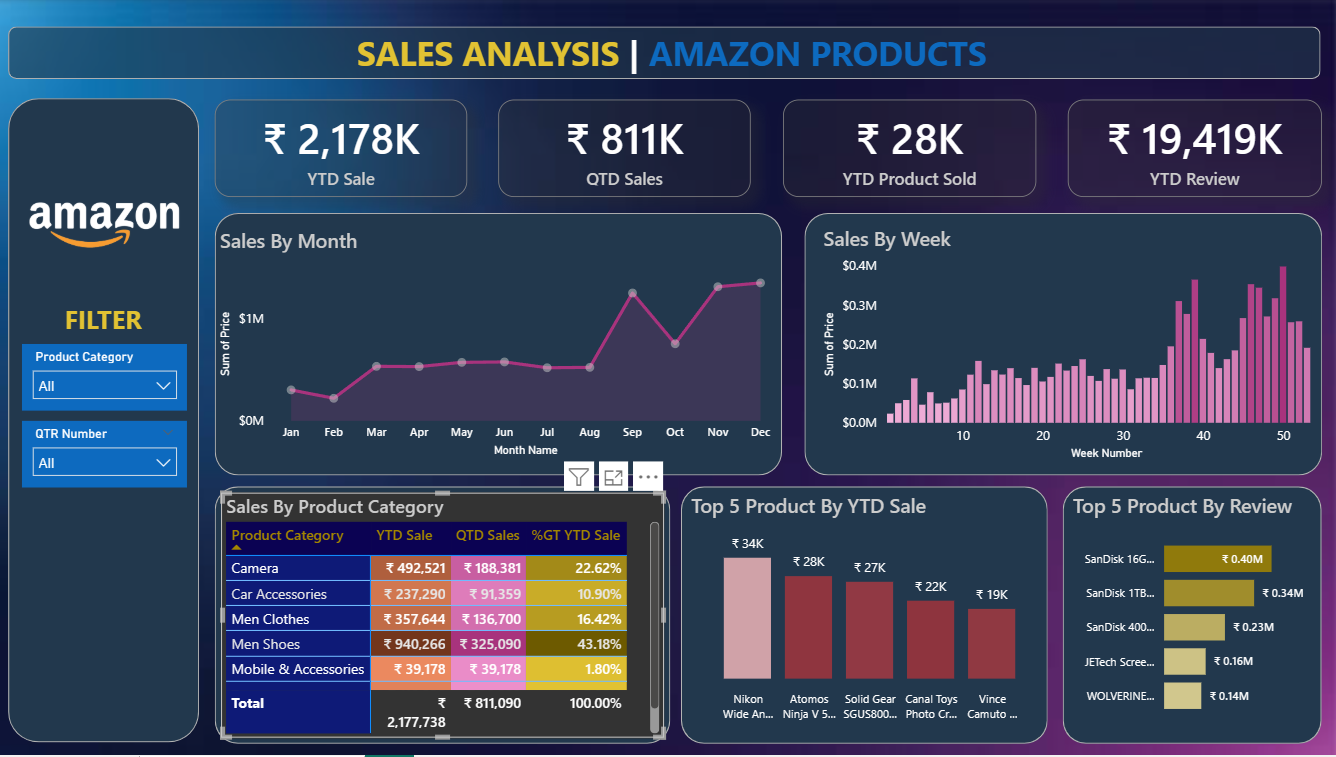

The dashboard page shown, as its layout file describes it:
{"tool":"powerbi","page":{"name":"Amazon Sales Dashboard","canvas":[1280,720],"ordinal":0},"visuals":[{"type":"shape","box":[211.1,202.8,540.4,250],"z":0},{"type":"shape","box":[14.4,93.8,181.9,613.5],"z":1000},{"type":"shape","box":[14.9,25,1250.2,50],"z":2000},{"type":"textbox","box":[332,22.2,627.9,54.2],"z":3000},{"type":"card","fields":{"Values":["Amazon_Data.YTD Sale"]},"box":[211.1,94.5,240.3,93.1],"z":4000},{"type":"card","fields":{"Values":["Amazon_Data.QTD Sales"]},"box":[481.8,94.5,240.3,93.1],"z":5000},{"type":"card","fields":{"Values":["Amazon_Data.YTD Product Sold"]},"box":[752.5,94.5,241,93.1],"z":6000},{"type":"card","fields":{"Values":["Amazon_Data.YTD Review"]},"box":[1023.8,94.5,241.7,93.1],"z":7000},{"type":"areaChart","title":"Sales By Month","fields":{"Y":["Amazon_Data.Price(Dollar)"],"Category":["Date Table.Month Name"]},"box":[210.8,216.5,541.4,223.8],"z":8000},{"type":"shape","box":[772.4,202.8,493.1,250],"z":9000},{"type":"columnChart","title":"Sales By Week","fields":{"Y":["Amazon_Data.Price(Dollar)"],"Category":["Date Table.Week Number"]},"box":[786.2,215.3,493.1,227.8],"z":10000},{"type":"shape","box":[211.3,463.5,433.9,245.1],"z":11000},{"type":"pivotTable","title":"Sales By Product Category","fields":{"Rows":["Amazon_Data.Product Category"],"Values":["Amazon_Data.YTD Sale1","Amazon_Data.QTD Sales","Amazon_Data.YTD Sale"]},"box":[216.9,473.3,422.6,233.8],"z":12000},{"type":"shape","box":[655,463.5,349.4,245.1],"z":13000},{"type":"columnChart","title":"Top 5 Product By YTD Sale ","fields":{"Category":["Amazon_Data.Product Description"],"Y":["Amazon_Data.YTD Sale"]},"box":[660.7,469.1,343.7,225.4],"z":14000},{"type":"shape","box":[1018.5,463.5,246.5,245.1],"z":15000},{"type":"clusteredBarChart","title":"Top 5 Product By Review","fields":{"Category":["Amazon_Data.Product Description"],"Y":["Amazon_Data.YTD Review"]},"box":[1023.5,469.2,235.3,225.2],"z":16000},{"type":"slicer","fields":{"Values":["Amazon_Data.Product Category"]},"box":[27.4,327.7,157.4,63.5],"z":17000},{"type":"slicer","fields":{"Values":["Date Table.QTR Number"]},"box":[27.4,401.3,157.4,63.5],"z":18000},{"type":"textbox","box":[26.6,282.5,157.3,45.4],"z":19000},{"type":"image","box":[30.3,141.5,154.5,154.5],"z":20000}]}

Visuals, with their boxes in screenshot pixels (x1, y1, x2, y2), scaled from the page's 1280x720 canvas onto the 1336x757 screenshot:
shape: Rect(220, 213, 784, 476)
shape: Rect(15, 99, 205, 744)
shape: Rect(16, 26, 1320, 79)
textbox: Rect(347, 23, 1002, 80)
card - Amazon_Data.YTD Sale: Rect(220, 99, 471, 197)
card - Amazon_Data.QTD Sales: Rect(503, 99, 754, 197)
card - Amazon_Data.YTD Product Sold: Rect(785, 99, 1037, 197)
card - Amazon_Data.YTD Review: Rect(1069, 99, 1321, 197)
"Sales By Month" areaChart: Rect(220, 228, 785, 463)
shape: Rect(806, 213, 1321, 476)
"Sales By Week" columnChart: Rect(821, 226, 1335, 466)
shape: Rect(221, 487, 673, 745)
"Sales By Product Category" pivotTable: Rect(226, 498, 667, 743)
shape: Rect(684, 487, 1048, 745)
"Top 5 Product By YTD Sale " columnChart: Rect(690, 493, 1048, 730)
shape: Rect(1063, 487, 1320, 745)
"Top 5 Product By Review" clusteredBarChart: Rect(1068, 493, 1314, 730)
slicer - Amazon_Data.Product Category: Rect(29, 345, 193, 411)
slicer - Date Table.QTR Number: Rect(29, 422, 193, 489)
textbox: Rect(28, 297, 192, 345)
image: Rect(32, 149, 193, 311)
